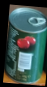tomatoes: (5, 7, 46, 83)
